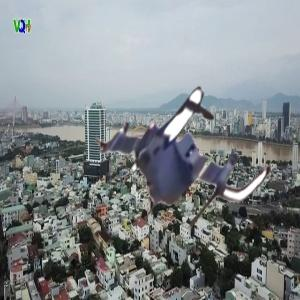drone: (98, 68, 272, 242)
